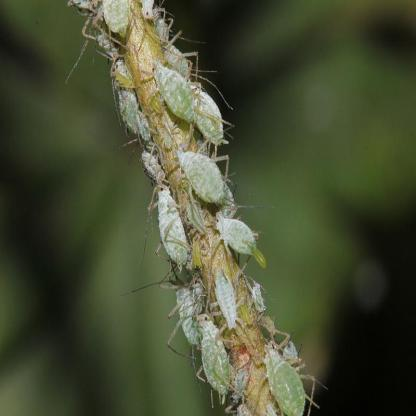aphid: (189, 311, 238, 401), (261, 339, 314, 416), (208, 206, 267, 266), (150, 184, 192, 265), (152, 60, 200, 124), (186, 77, 228, 144), (174, 144, 223, 201), (167, 278, 205, 350), (211, 266, 250, 334), (114, 81, 150, 136), (210, 149, 237, 220), (179, 204, 209, 267), (98, 0, 140, 43), (106, 51, 137, 96), (275, 330, 306, 373), (160, 39, 196, 75), (242, 270, 270, 314), (228, 362, 254, 405), (137, 152, 167, 187), (150, 8, 172, 43), (254, 318, 282, 339), (135, 114, 155, 143), (141, 0, 157, 22)
